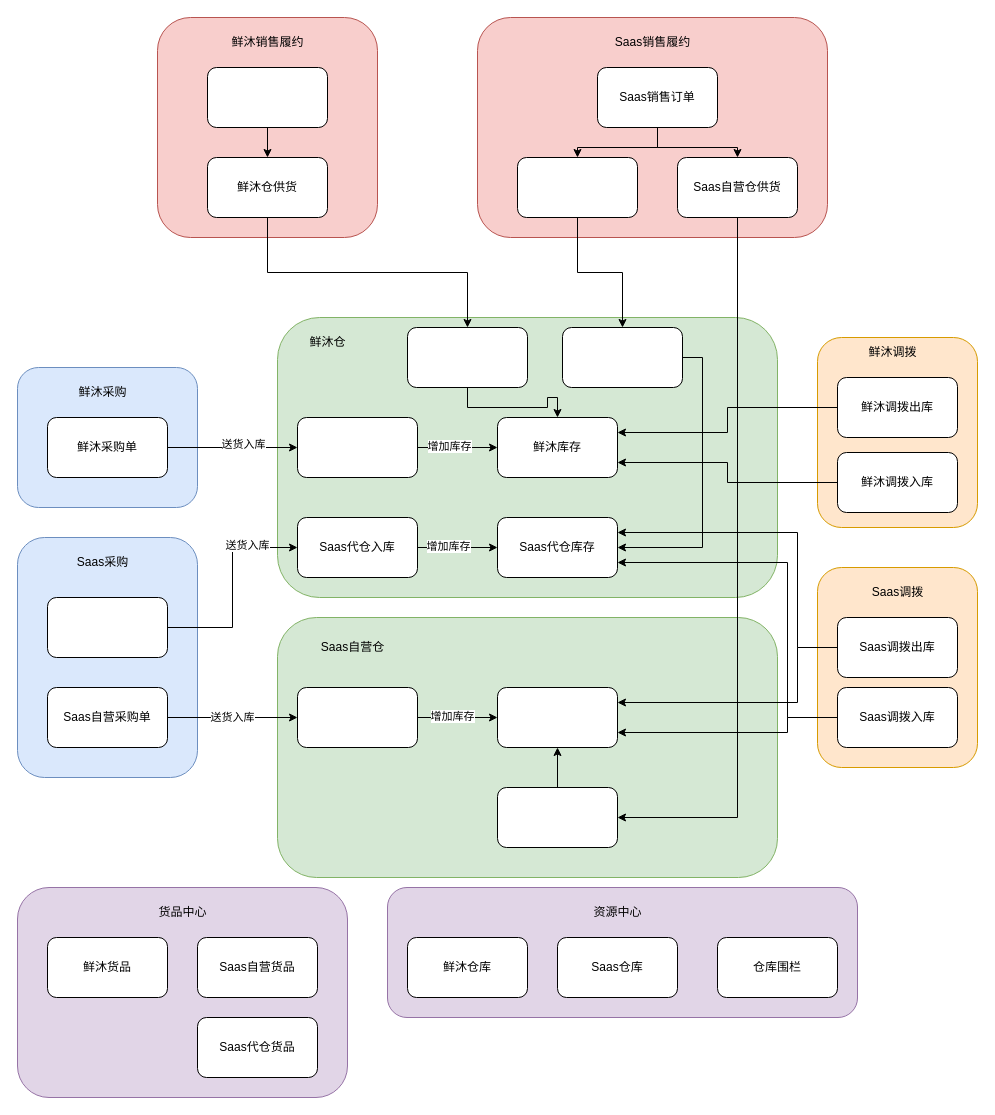
Image size: 995x1115. Some labels were removed from this diagram. The box of each missing label's shape, as (x1, y1, x2, y2) in pixels:
Saas代仓供货: (516, 156, 638, 218)
Saas代仓采购单: (46, 596, 168, 658)
Saas代仓销售出库单: (562, 326, 682, 388)
Saas自营入库单: (296, 686, 418, 748)
Saas自营库存: (496, 686, 618, 748)
Sass自营销售出库单: (496, 786, 618, 848)
鲜沐入库: (296, 416, 418, 478)
鲜沐销售出库单: (406, 326, 528, 388)
鲜沐销售订单: (206, 66, 328, 128)
